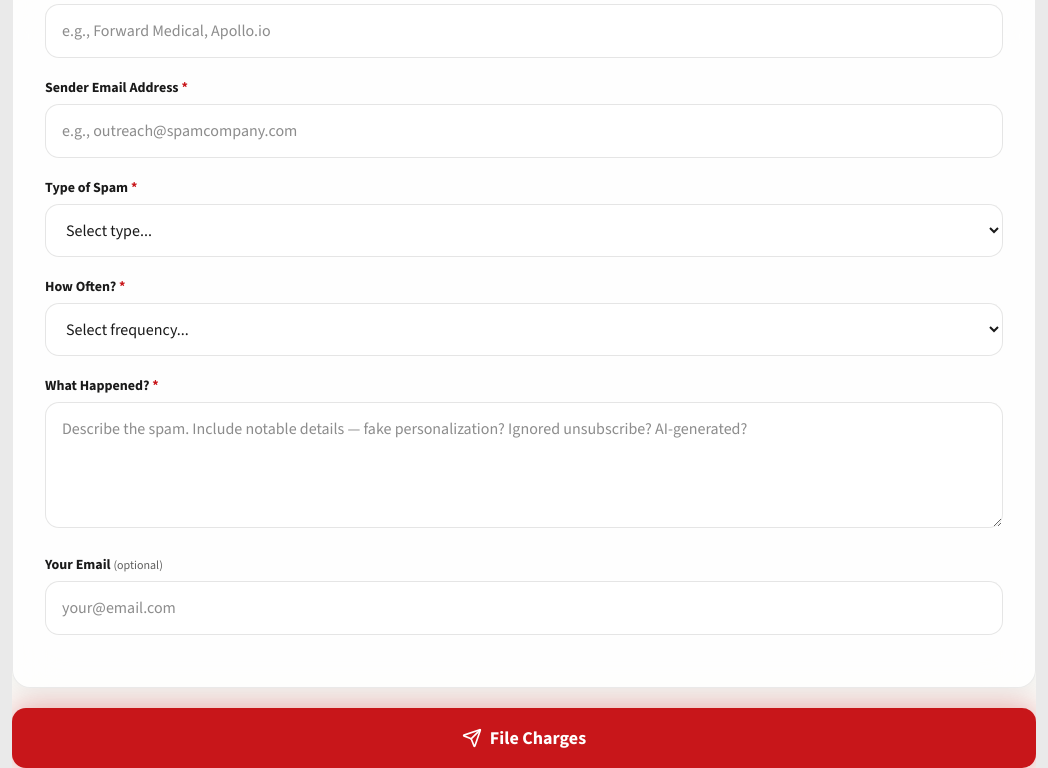
it: ReportSpammerForm › shows the required messages and sends nothing when empty
(page scrolled)
Click the button "File Charges" at (524, 738), box [12, 708, 1036, 767]
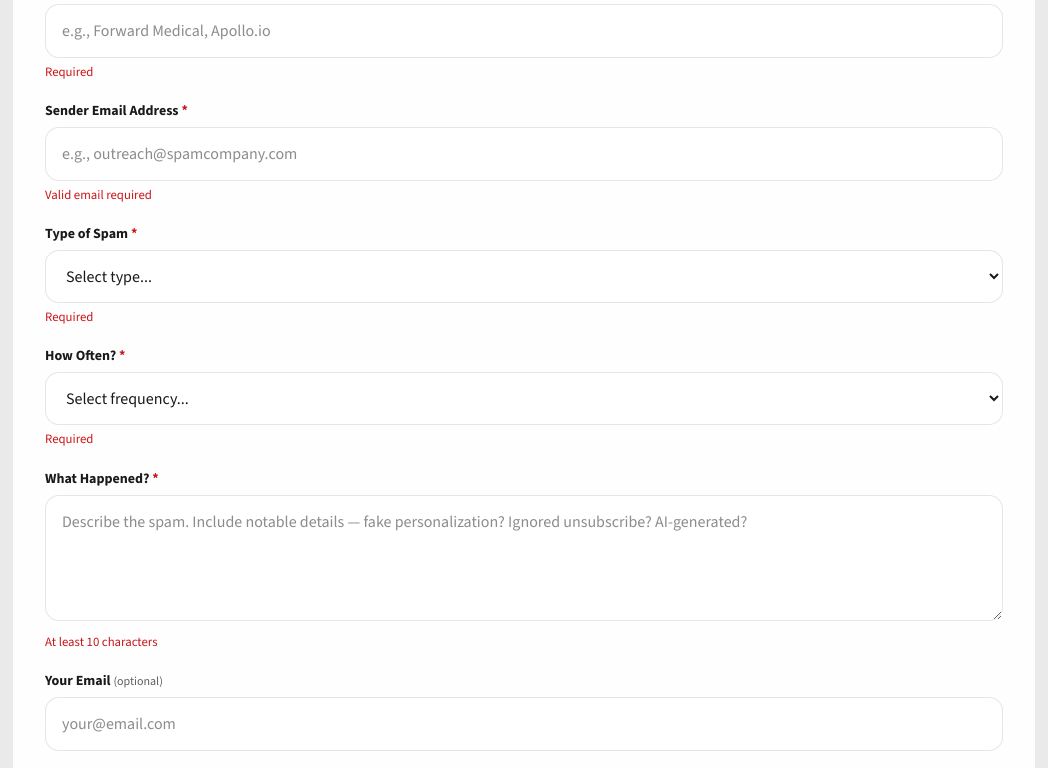
Check: the text "Required" is shown 3 times, box [45, 63, 94, 80]; [45, 308, 94, 325]; [45, 430, 94, 447]
Check: the text "Valid email required" is shown, box [45, 186, 152, 203]
Check: the text "At least 10 characters" is shown, box [45, 632, 158, 650]
